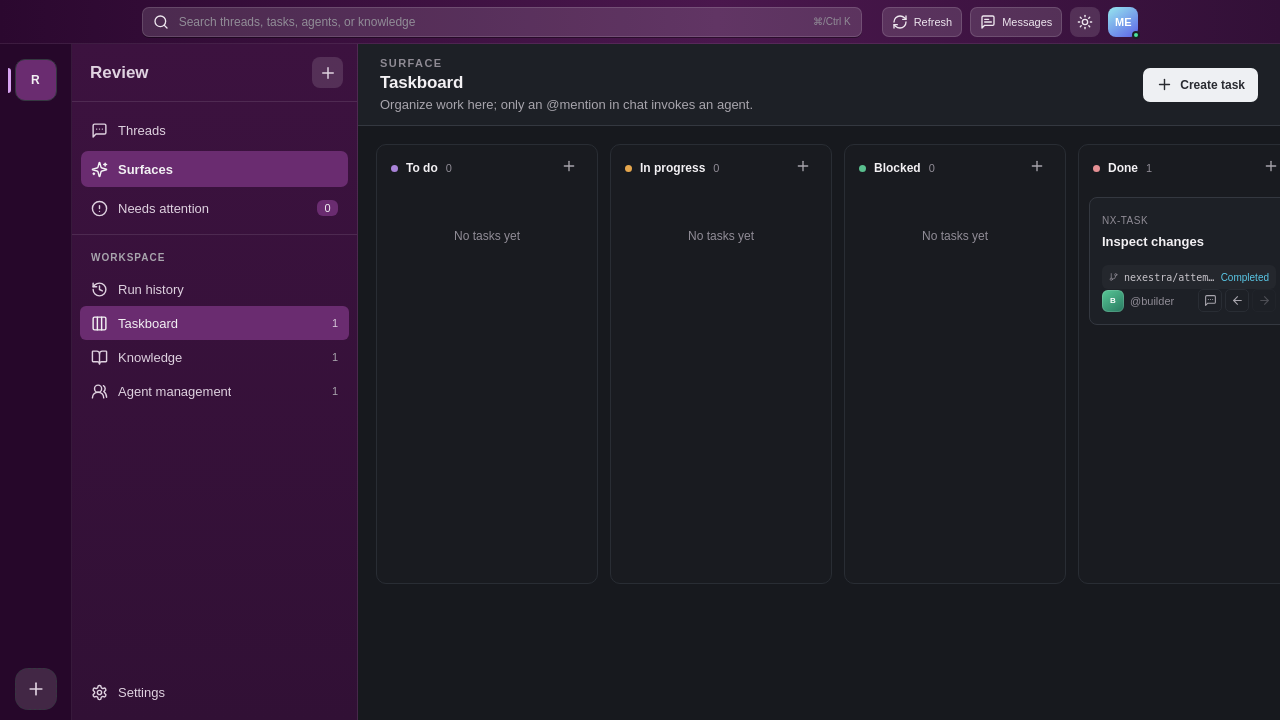
Test: Assignment review UI › loads only on request, shows changes and untracked files, and refreshes the snapshot explicitly
The image size is (1280, 720).
Click the button "NX-TASK Inspect changes nexestra/attempt-one completed" at (1189, 250), box [1102,210,1276,289]
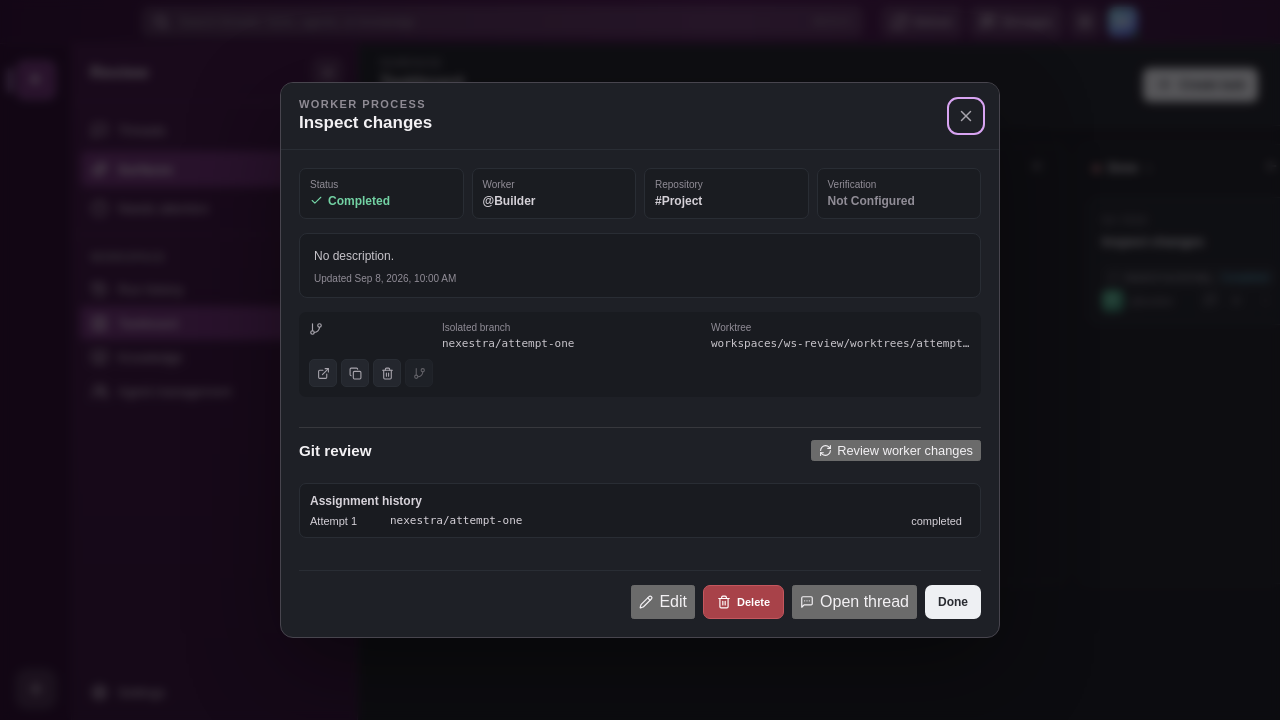
Expected: the button "Review worker changes" is shown
Click the button "Review worker changes" at (896, 451), box [810,440,981,461]
(page scrolled)
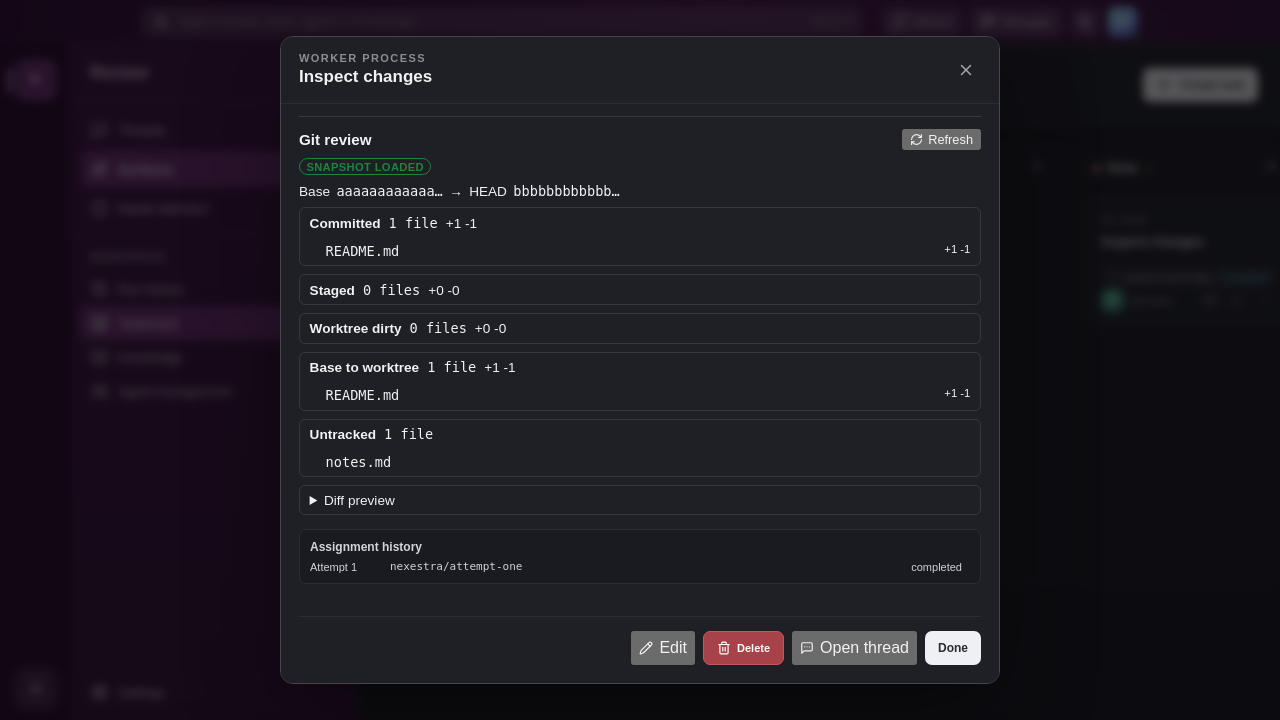
Expected: the text "Snapshot loaded" is shown, [299,158,431,175]
Expected: the text "notes.md" is shown, [326,454,391,470]
Click the heading "Diff preview" at (359, 500), box [324,493,395,508]
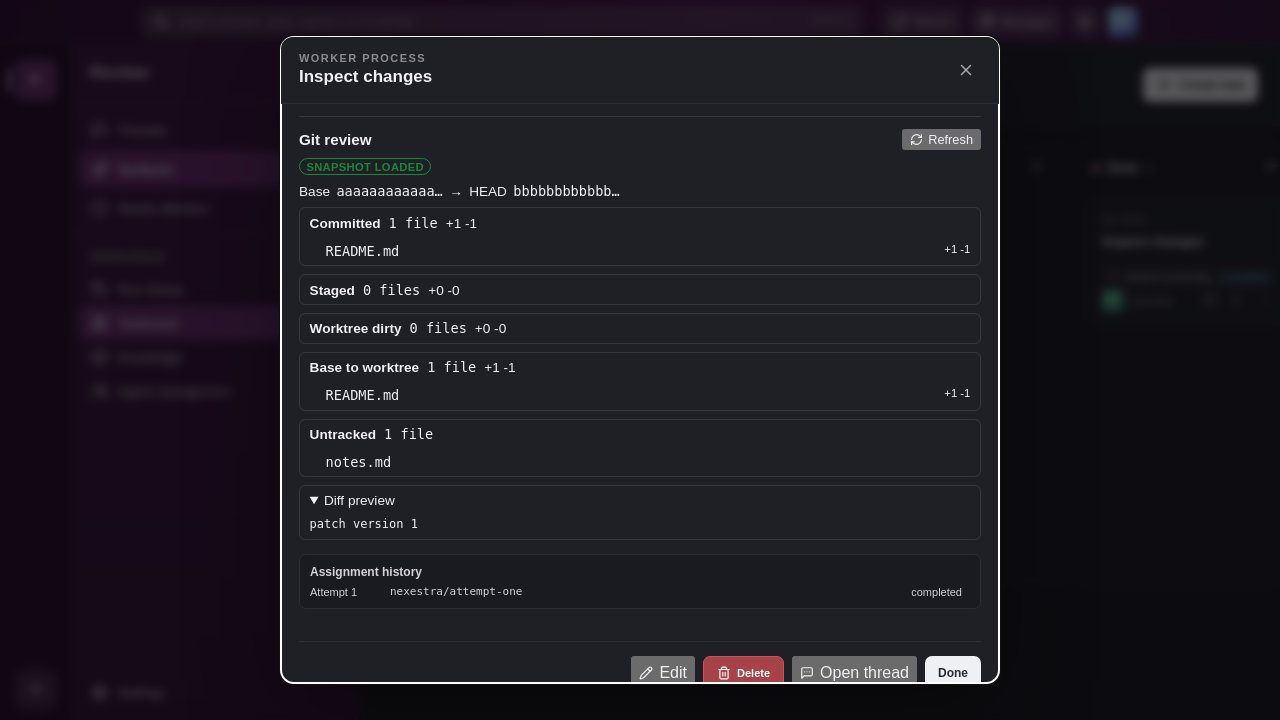
Expected: the text "patch version 1" is shown, [310,517,418,531]
Click the button "Refresh" at (941, 139), box [902,129,981,150]
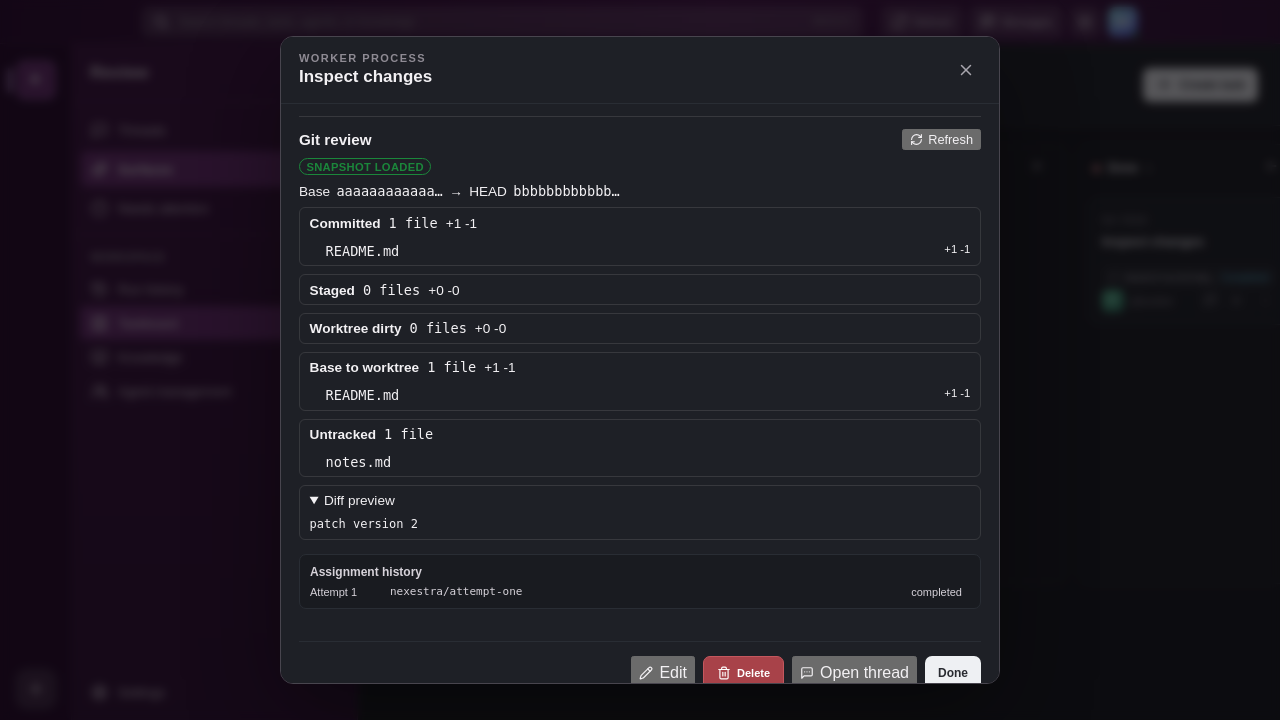
Expected: the text "patch version 2" is shown, [310,517,418,531]
